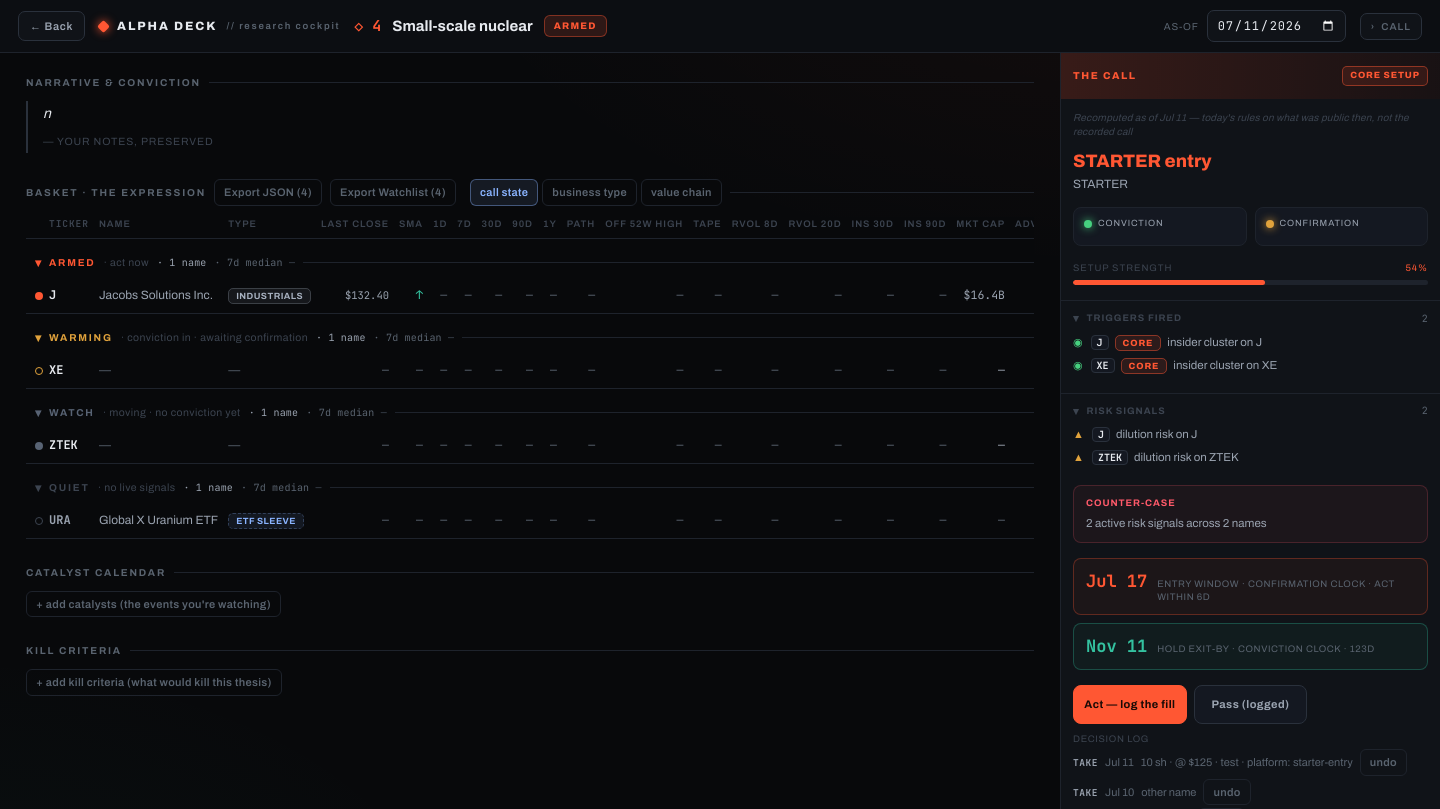
Scenario: Cockpit — the per-name panel › filters risk signals to this name's ticker
Click the row that starts with "Jacobs Solutions Inc.": (617, 295) [26,277,1208,313]
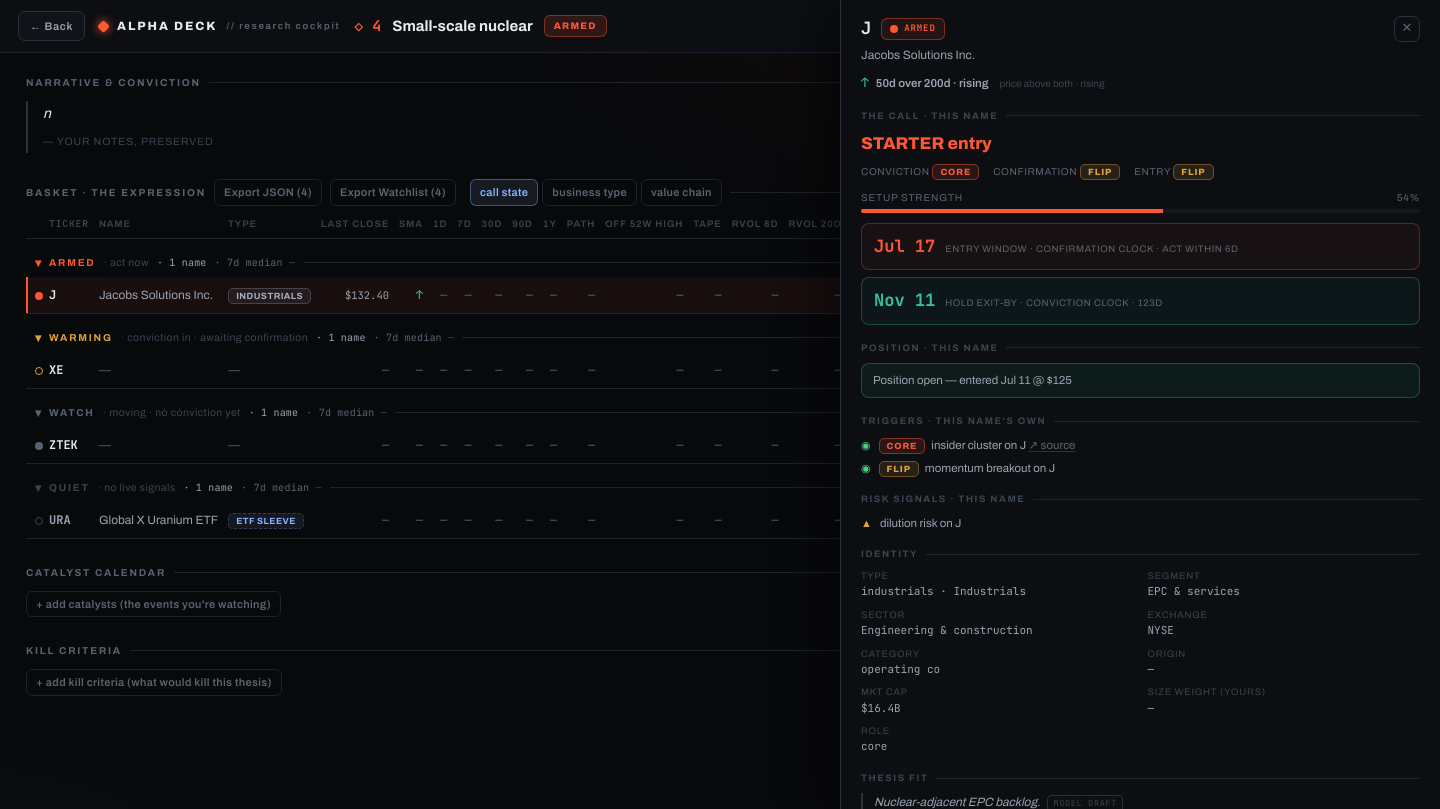
Result: the text "dilution risk on J" is shown at [880,514,962,531]
